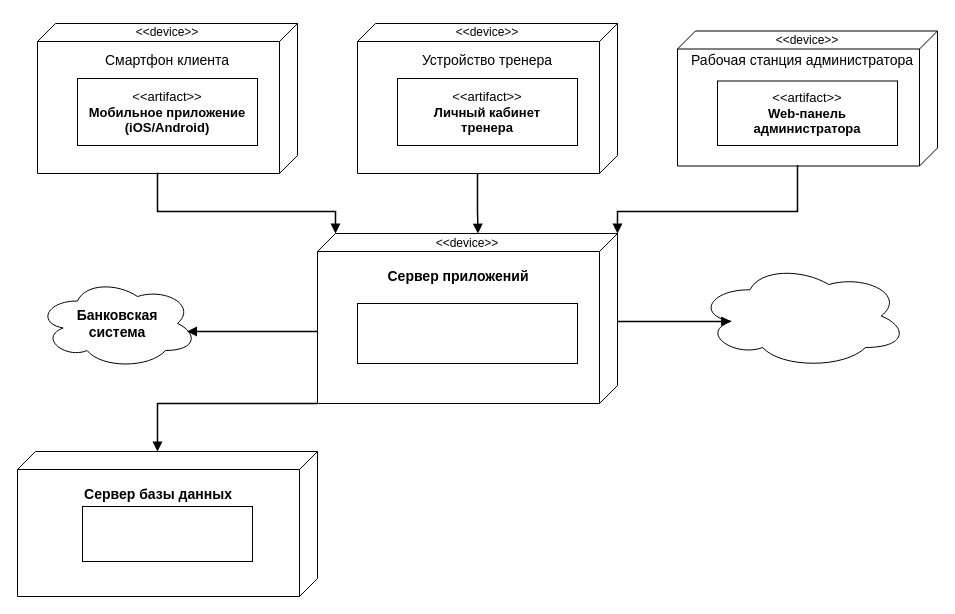
Some shapes in this 955 by 614 pixel diagram are drawn without their labels. Each missing label, with the box of its shape:
<<artifact>> PostgreSQL: (82, 506, 252, 562)
<<artifact>> Модуль управления записями и абонементами: (356, 302, 578, 364)
Сервис уведомлений (Email / SMS / Push): (696, 262, 908, 368)
